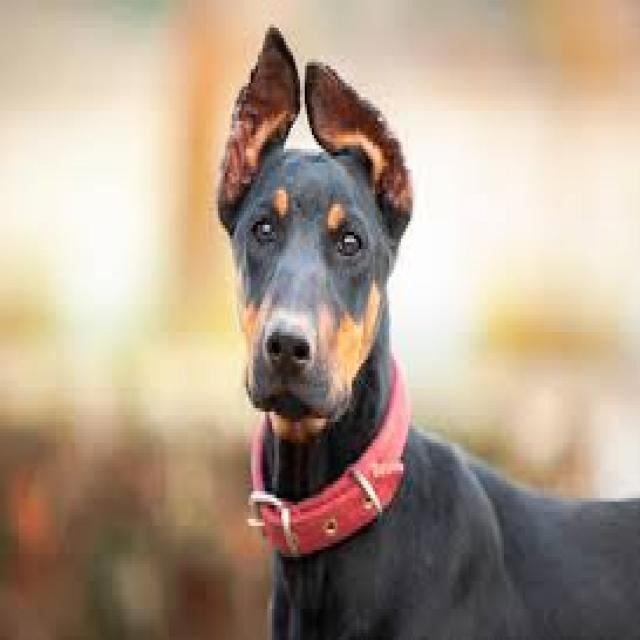Dog: (208, 21, 640, 640)
